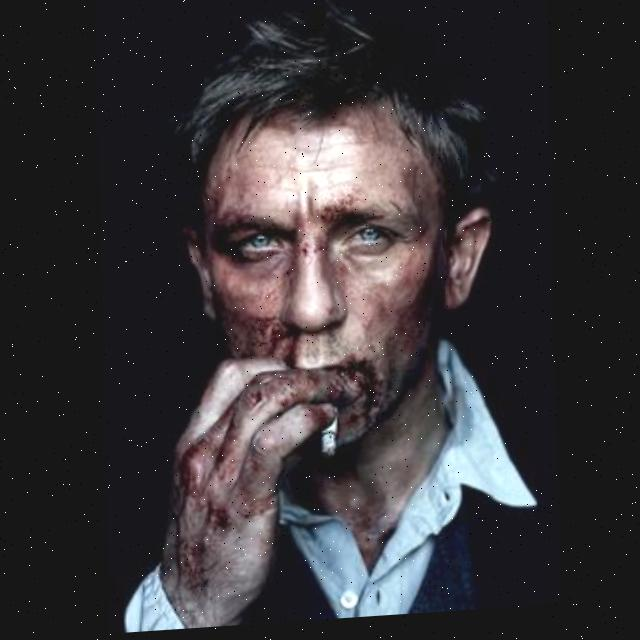cigarette: (318, 407, 336, 459)
